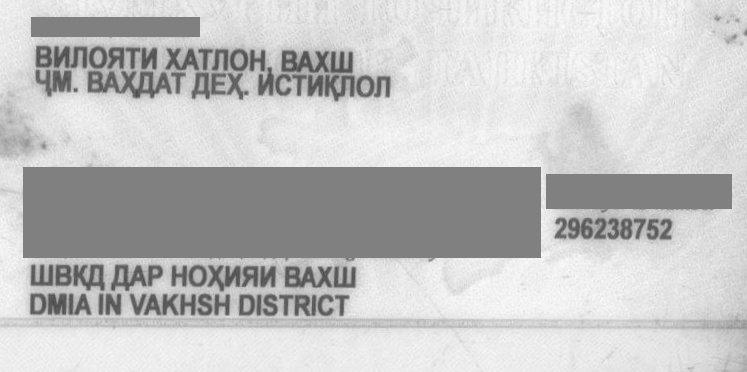2: (552, 213, 572, 241), (592, 213, 610, 241), (657, 214, 675, 242)
3: (606, 213, 624, 241)
5: (645, 213, 663, 241)
6: (578, 213, 594, 241)
7: (633, 213, 651, 241)
8: (617, 213, 637, 241)
9: (565, 213, 583, 241)
А: (102, 61, 122, 103), (156, 62, 176, 104), (128, 258, 146, 296), (298, 257, 316, 295), (182, 43, 200, 75), (296, 44, 314, 76)
В: (84, 61, 106, 103), (50, 258, 72, 296), (286, 257, 300, 295), (38, 41, 54, 73), (283, 44, 299, 76)
Д: (86, 258, 112, 296), (137, 62, 157, 104), (191, 63, 211, 105), (111, 258, 131, 296)
Е: (207, 63, 227, 105)
И: (256, 257, 284, 295), (139, 42, 165, 74), (221, 258, 241, 296), (260, 64, 276, 106), (305, 64, 321, 106), (50, 41, 70, 73)
К: (70, 258, 88, 296)
Л: (373, 65, 399, 107), (340, 65, 356, 107), (70, 41, 90, 73), (215, 43, 231, 75)
М: (51, 61, 71, 103)
Н: (246, 43, 266, 75), (172, 258, 188, 296)
О: (354, 65, 374, 107), (187, 258, 207, 296), (87, 41, 107, 73), (229, 43, 247, 75)
Р: (144, 258, 170, 296)
С: (275, 64, 295, 106)
Т: (174, 62, 194, 104), (295, 64, 311, 106), (127, 42, 143, 74), (201, 43, 217, 75)
Х: (316, 257, 332, 295), (167, 42, 185, 74), (315, 44, 331, 76)
Ш: (329, 257, 365, 295), (327, 45, 363, 77), (32, 259, 50, 297)
Я: (240, 258, 258, 296), (106, 41, 126, 73)
Қ: (322, 65, 342, 107)
Ҳ: (121, 62, 141, 104), (206, 258, 224, 296), (229, 63, 245, 105)
Ҷ: (38, 61, 52, 103)
